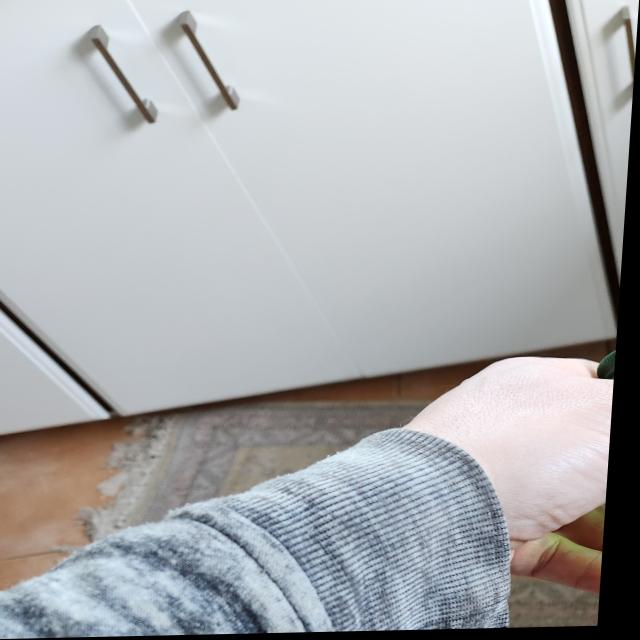lime juice: (589, 339, 622, 629)
